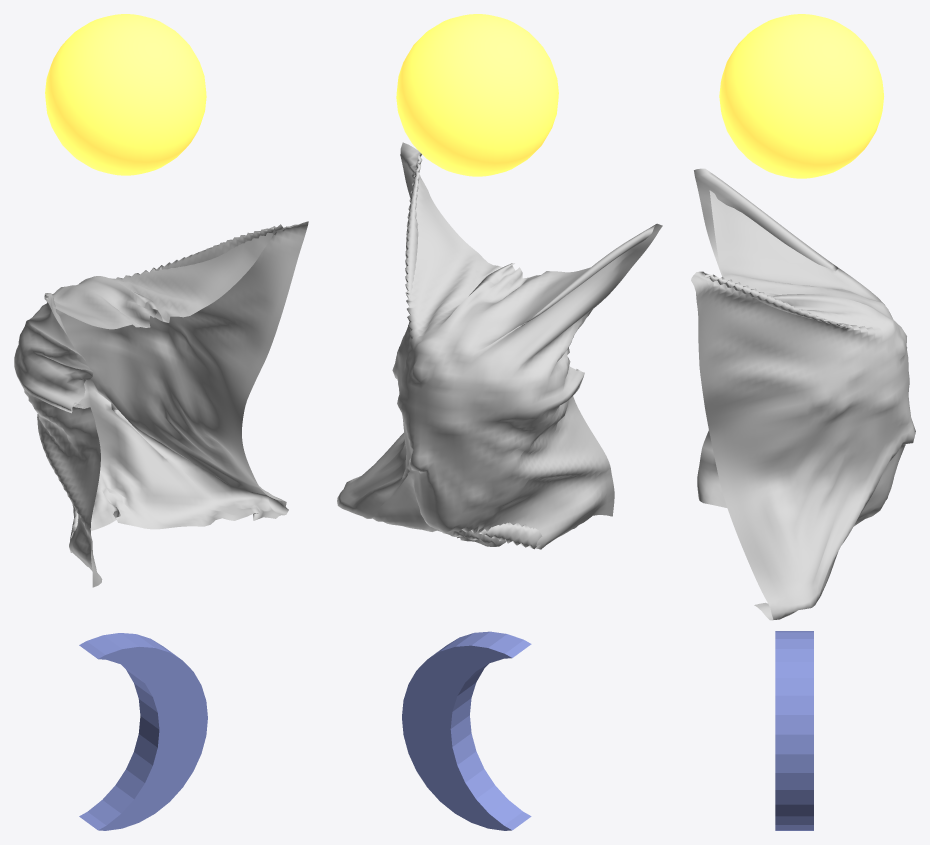
File: drømmefanger 2.fbx
The picture shows the model from 3 angles, left to right: view 1: azimuth 30°, elevation 25°; view 2: azimuth 150°, elevation 25°; view 3: azimuth 270°, elevation 25°; orthographic projection.
Visible parts, largest first — view 1: Plane, Sphere, Cylinder; view 2: Plane, Sphere, Cylinder; view 3: Plane, Sphere, Cylinder.
Boxes of the visible parts, bbox=[...] form: Plane: bbox=[14, 221, 308, 587]; Sphere: bbox=[45, 14, 206, 175]; Cylinder: bbox=[79, 633, 207, 830]; Plane: bbox=[337, 142, 662, 549]; Sphere: bbox=[396, 14, 558, 176]; Cylinder: bbox=[402, 631, 531, 830]; Plane: bbox=[691, 168, 915, 620]; Sphere: bbox=[719, 14, 883, 178]; Cylinder: bbox=[775, 631, 813, 830].
Size of the model in its own units: 400 by 273 by 1082.
